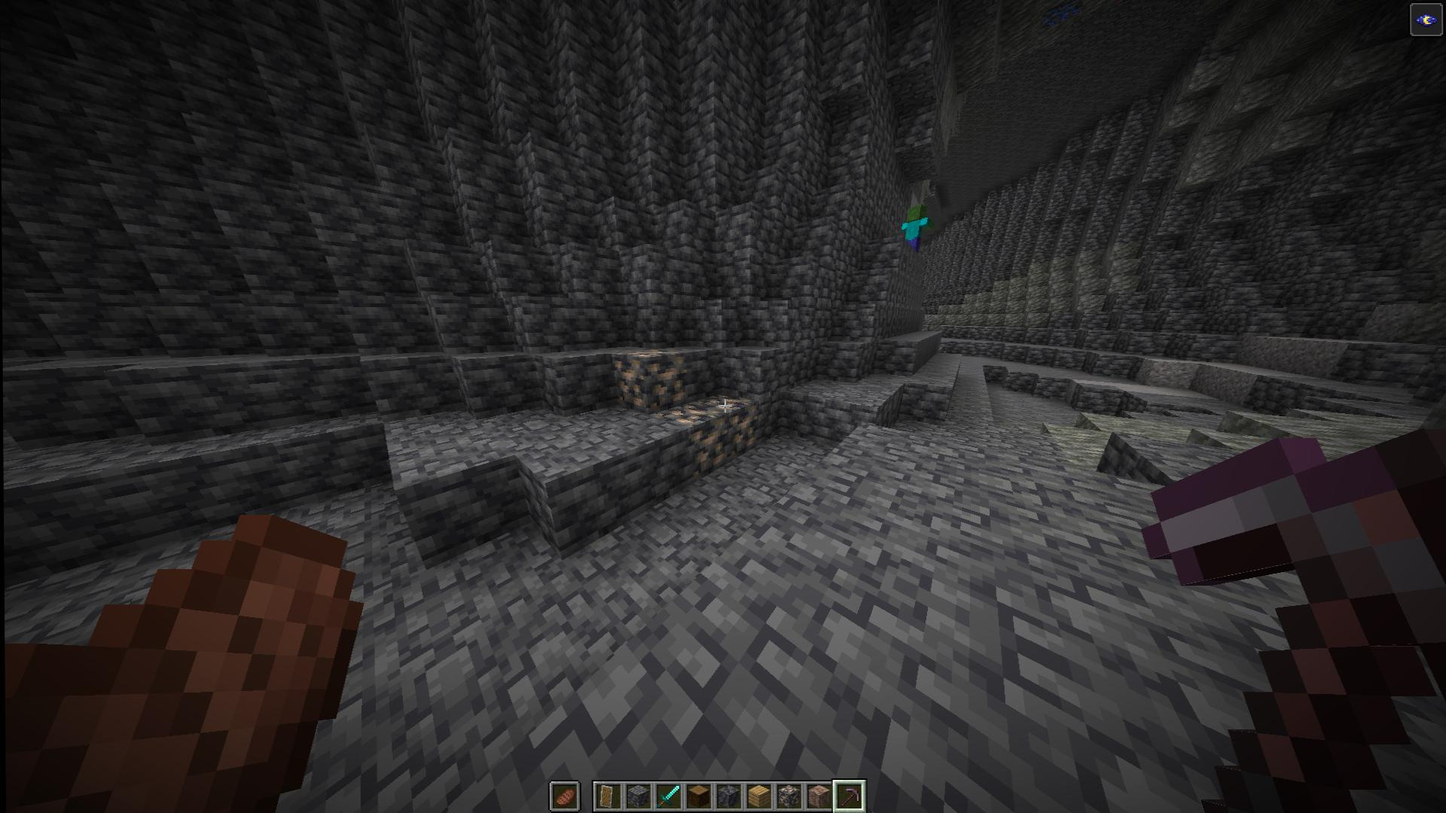iron ore: (691, 416, 731, 482), (611, 355, 649, 411), (649, 353, 683, 410), (729, 401, 762, 458), (660, 405, 716, 425), (699, 394, 748, 409)
